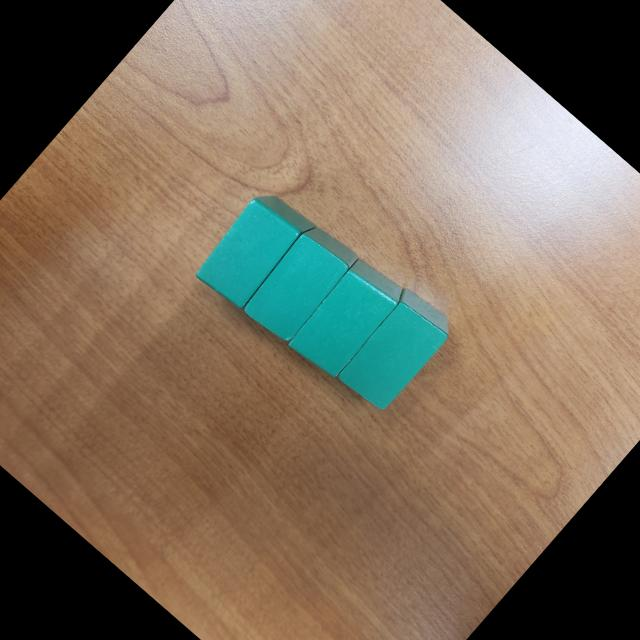green: (330, 283, 459, 417), (188, 182, 317, 316), (282, 252, 410, 385), (236, 215, 363, 348)
